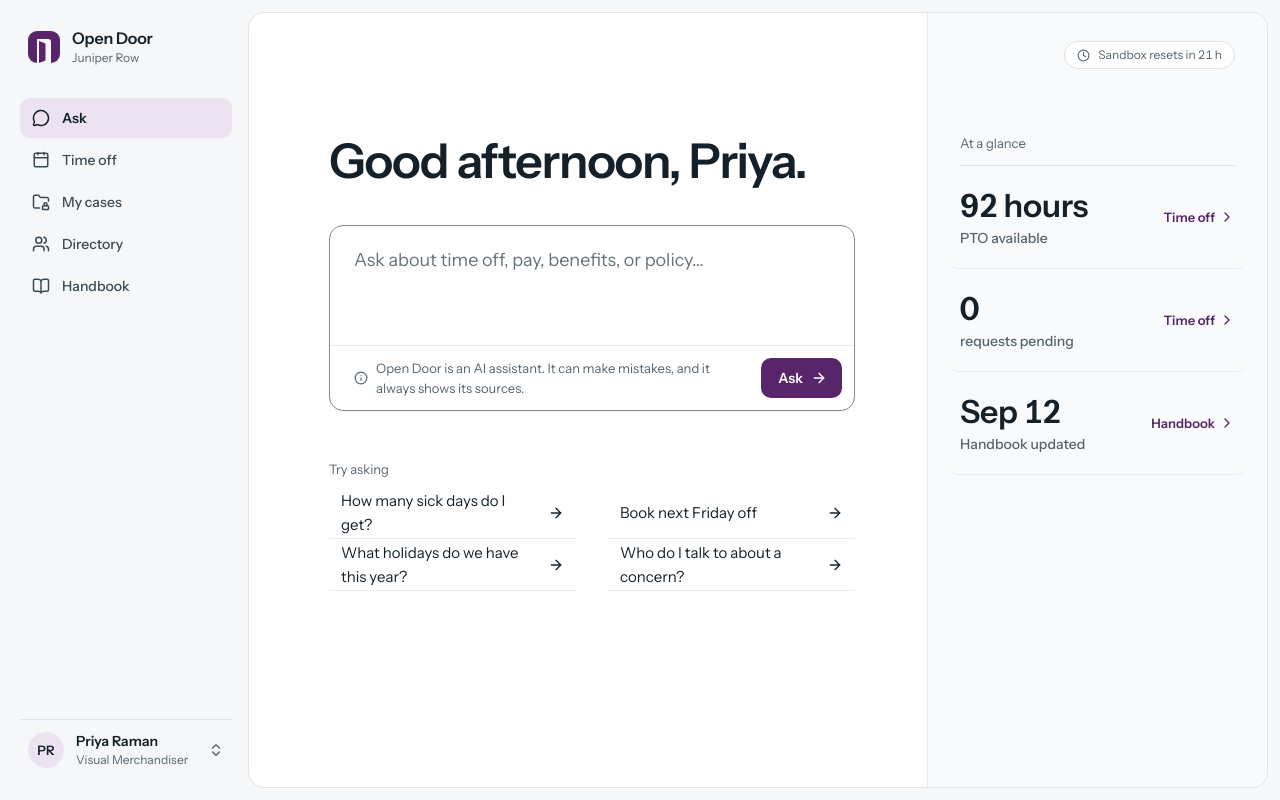
Test: asking › sends the question to the API, trimmed, and shows the streamed reply in the conversation
Type "  How many sick days do I get?  " into the text box named "Ask Open Door" at point(592, 282), box [330,226,854,338]
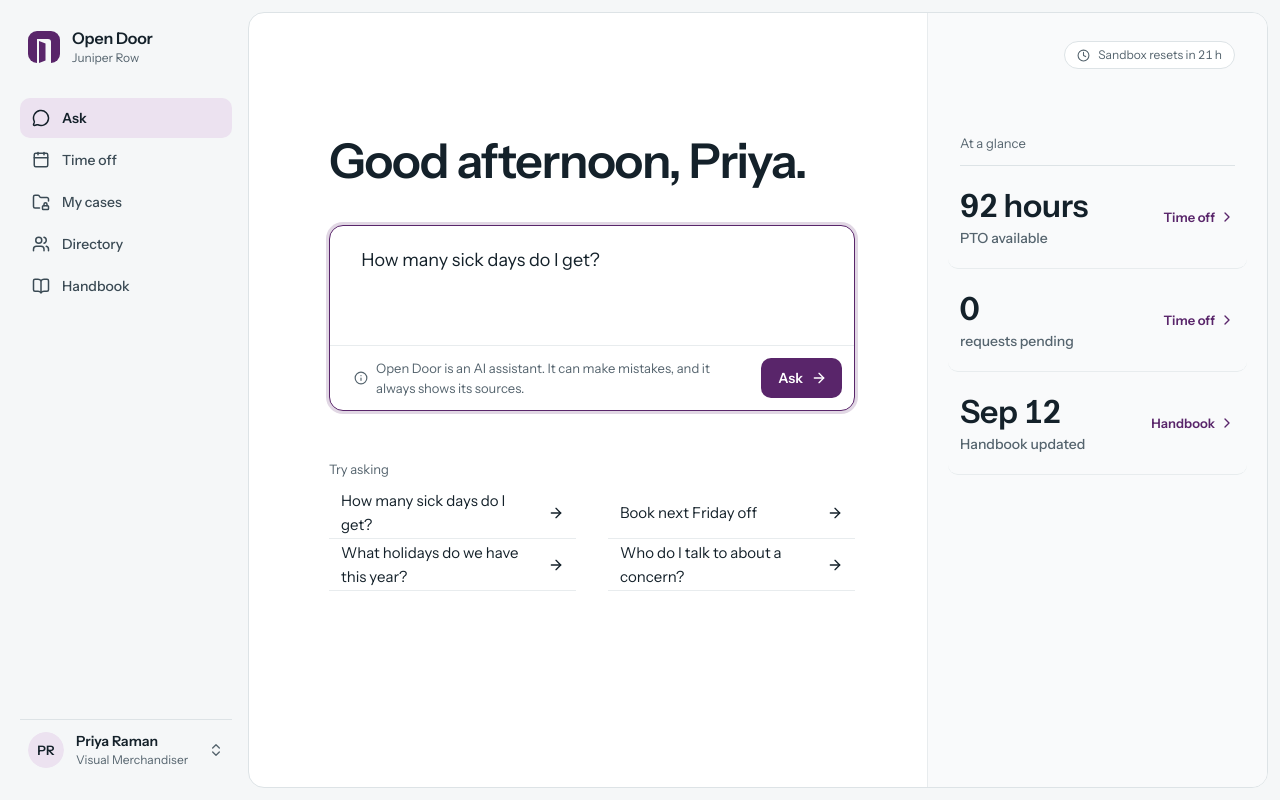
Click the button "Ask" at point(802, 378), box [761,358,842,398]
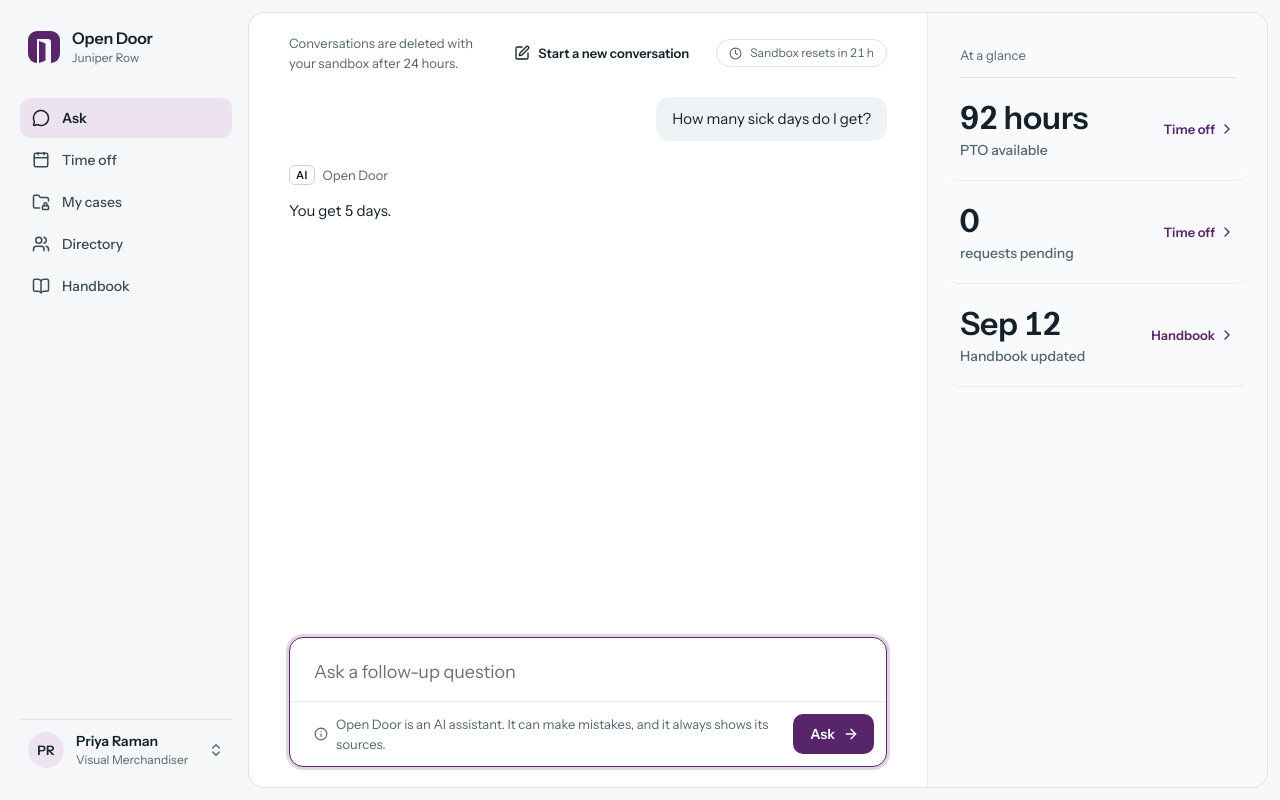
Check: the text "You get 5 days." is shown, box [289,201,391,220]
Check: the text box named "Ask Open Door" is empty, box [290,638,886,694]
